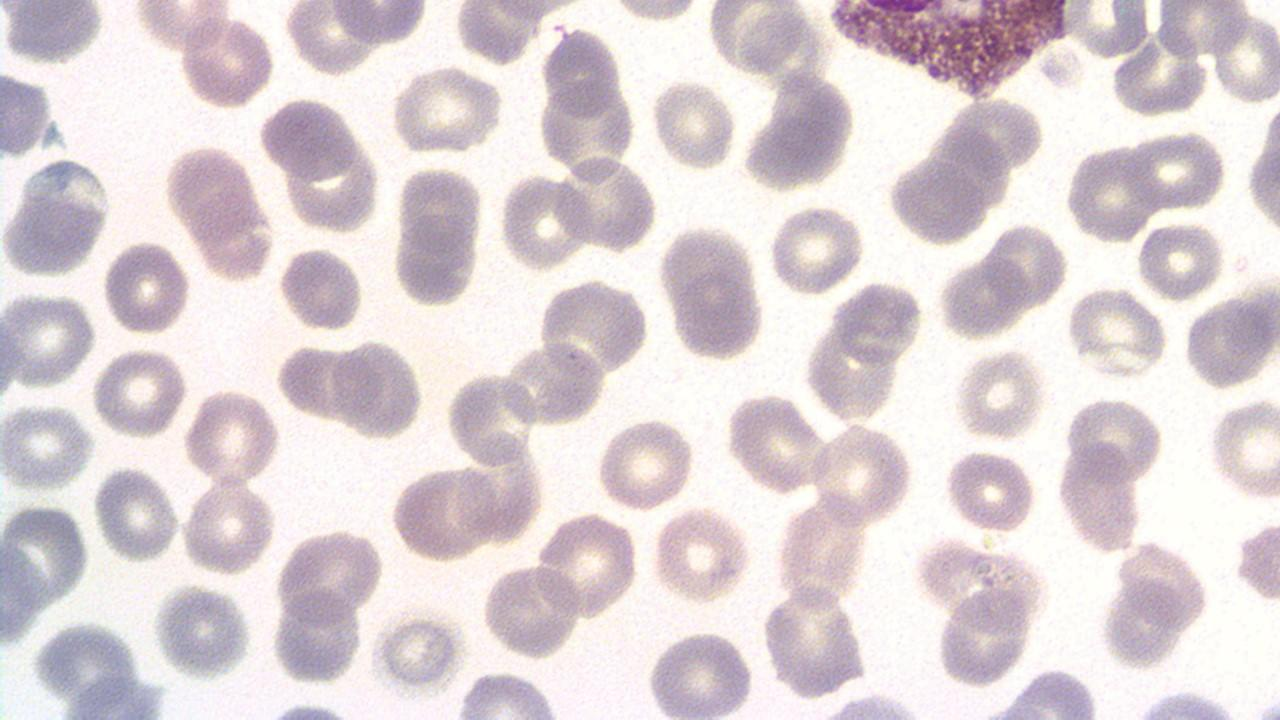Platelets: (40, 119, 65, 152)
RBC: (761, 586, 863, 698), (808, 422, 914, 527), (534, 512, 638, 618), (274, 526, 384, 624), (726, 392, 828, 495), (390, 64, 504, 155), (556, 153, 658, 254), (391, 463, 496, 560), (644, 627, 757, 716), (482, 561, 582, 660), (152, 581, 250, 681), (652, 506, 750, 605), (183, 388, 282, 486), (0, 290, 96, 389), (1065, 286, 1167, 379), (934, 590, 1031, 687), (1182, 292, 1278, 390), (1063, 394, 1163, 488), (269, 587, 365, 684), (89, 346, 187, 440), (447, 368, 537, 470), (390, 207, 480, 309), (500, 339, 604, 427), (669, 268, 765, 363), (596, 417, 694, 510), (768, 204, 864, 298), (334, 337, 421, 440), (179, 13, 273, 108), (180, 480, 275, 574), (954, 346, 1046, 443), (258, 95, 360, 182), (92, 462, 180, 562), (1124, 128, 1226, 212), (102, 238, 190, 335), (0, 402, 92, 490), (945, 447, 1037, 535), (278, 242, 366, 334), (650, 78, 737, 171), (540, 26, 622, 120), (1210, 395, 1280, 503), (1136, 220, 1224, 300), (1211, 10, 1280, 106), (0, 1, 104, 63), (276, 342, 354, 422), (454, 669, 563, 718), (1157, 0, 1243, 62), (326, 0, 428, 44), (1245, 123, 1279, 239)
WBC: (816, 0, 1093, 101), (4, 157, 117, 280), (1, 0, 108, 63), (1235, 522, 1279, 604)
